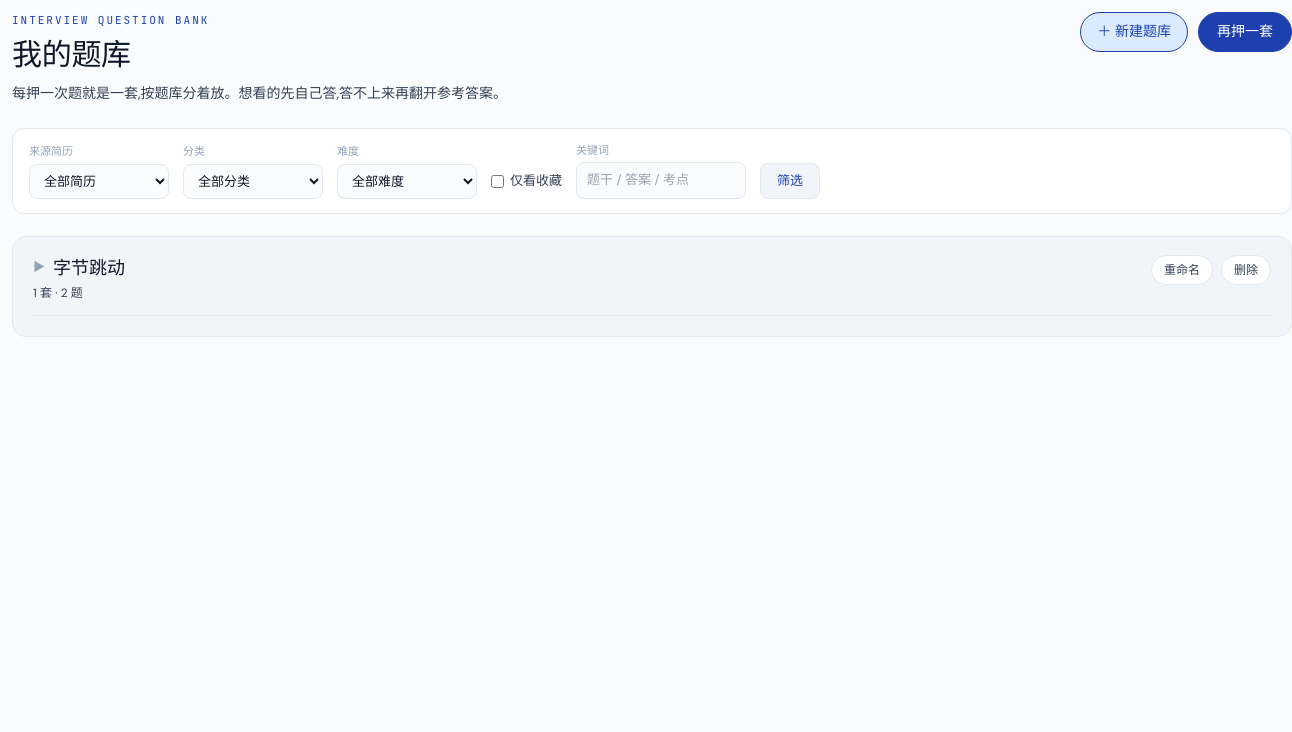
Test: QuestionBank · 三层折叠 › 筛选条件变化 → 手动折叠状态重置(不留在那儿自作主张)
# 先手动展开题库和套
Click the button "▶ 字节跳动" at (79, 268), box [33,255,125,280]
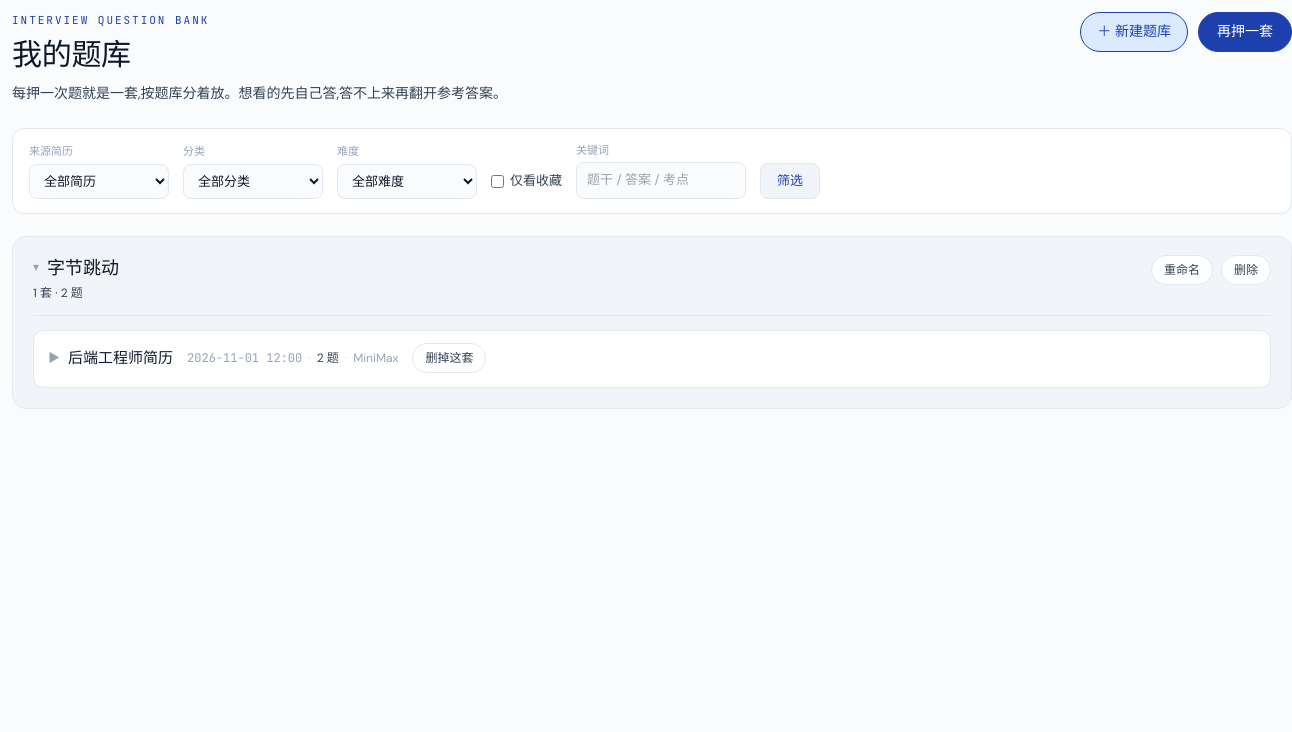
Check: the element "后端工程师简历" is shown, box [33,330,1271,388]
Click the button "▶ 后端工程师简历" at (110, 358), box [48,347,173,370]
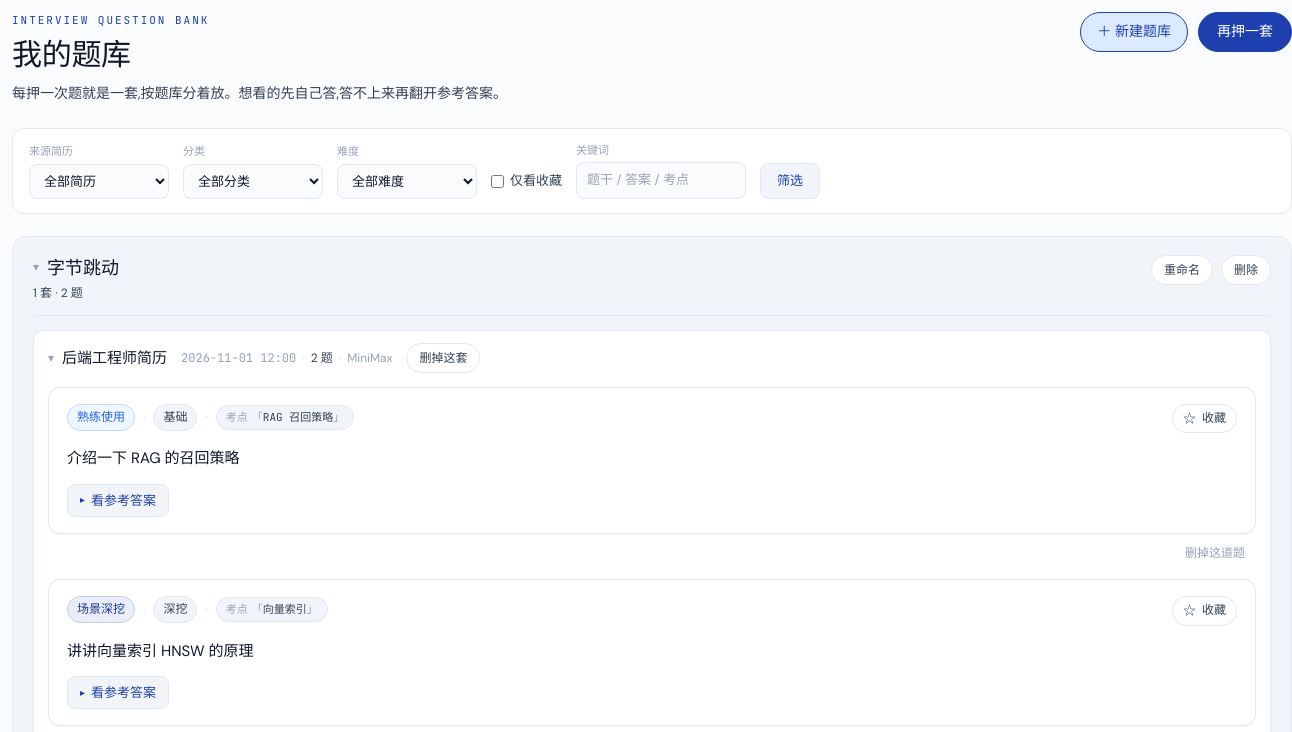
Check: the text "介绍一下 RAG 的召回策略" is shown, box [67,448,240,468]
# 加一个筛选 → 命中块按自动口径展开
Select "深挖" in the dropdown labelled "分类" at (253, 181), box [183,164,323,199]
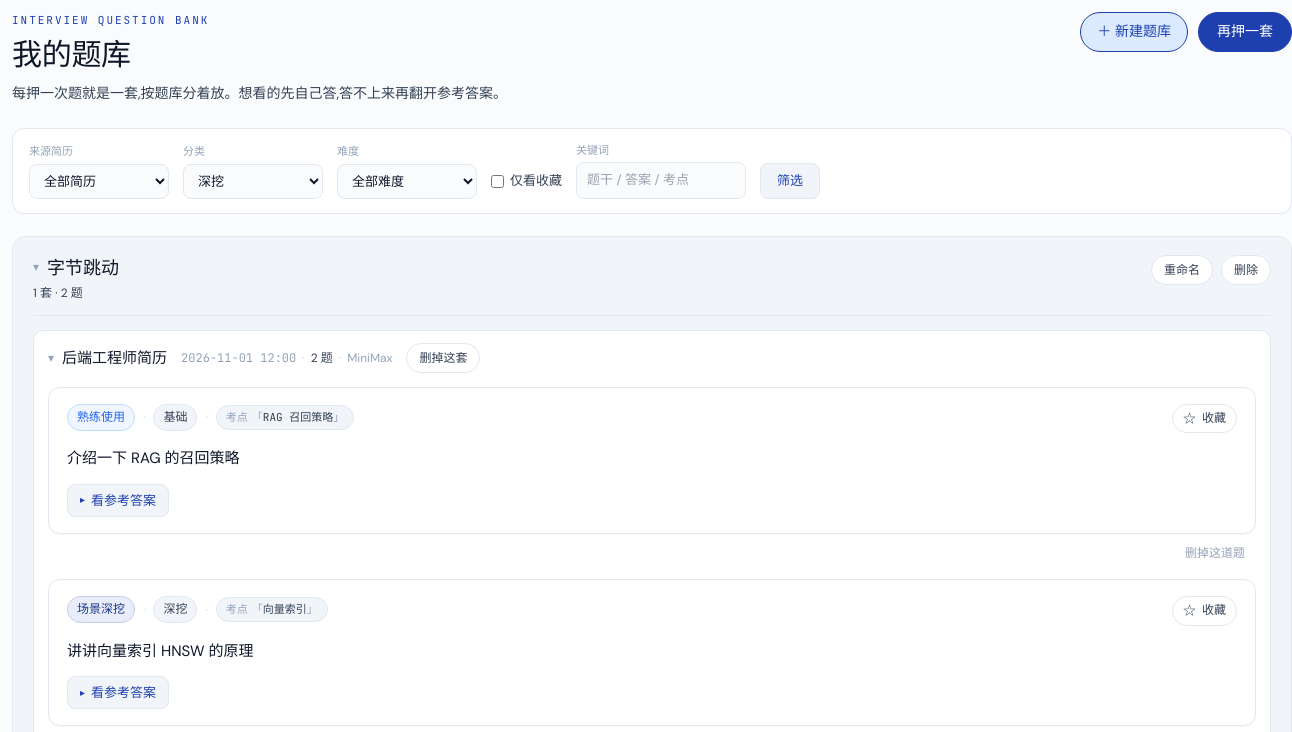
# 把筛选清掉 → 手动折叠状态已被重置,块回到默认折叠
Select "全部分类" in the dropdown labelled "分类" at (253, 181), box [183,164,323,199]
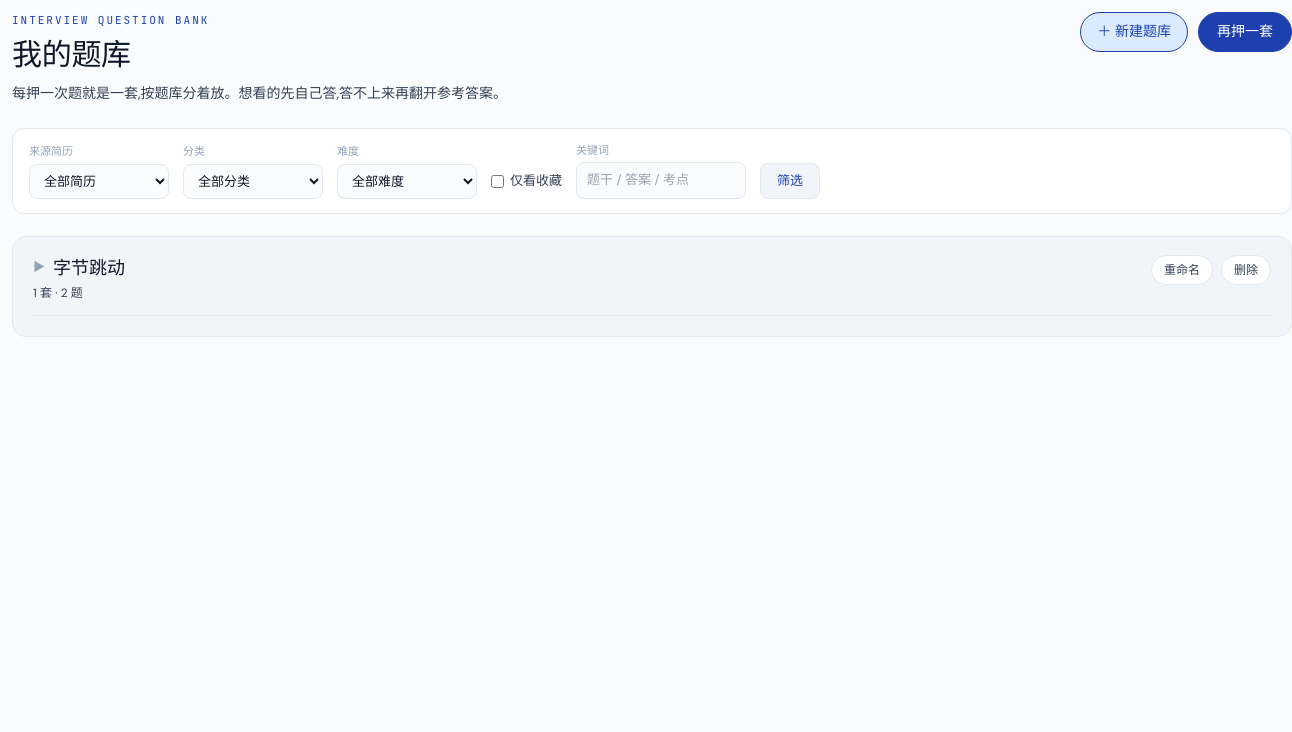
Check: the text "介绍一下 RAG 的召回策略" is gone
